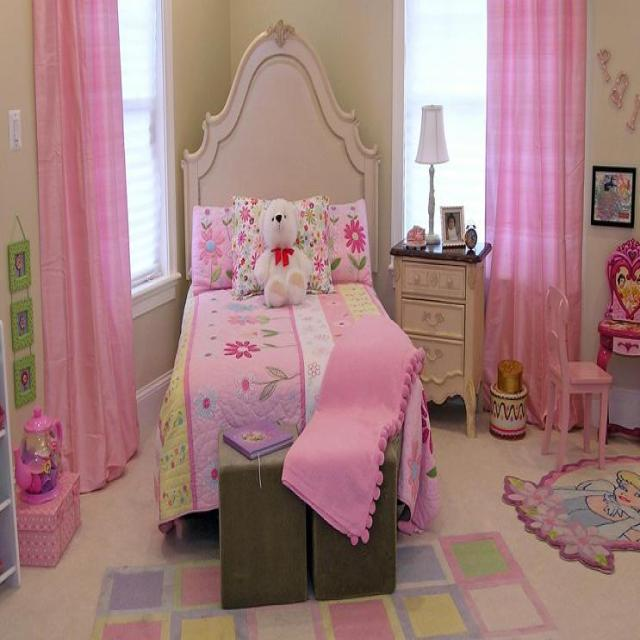bed: (154, 19, 438, 601)
book: (222, 420, 296, 460)
chair: (540, 284, 613, 471)
clock: (464, 225, 477, 251)
cupboard: (389, 237, 492, 438)
curtains: (31, 0, 140, 494), (482, 0, 586, 430)
lamps: (414, 104, 450, 244)
pots: (488, 381, 528, 440), (496, 358, 523, 392)
rugs: (90, 529, 558, 639), (501, 452, 639, 574)
shelves: (0, 319, 22, 591)
windows: (400, 0, 488, 249), (116, 0, 178, 304)
